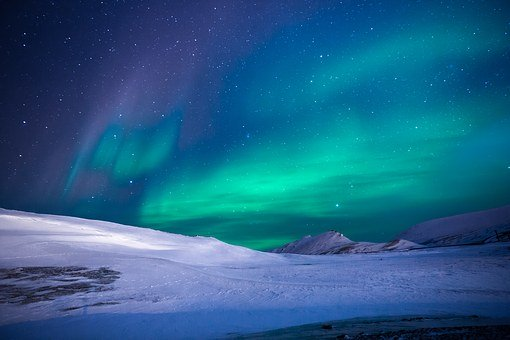sky: (1, 1, 508, 213)
